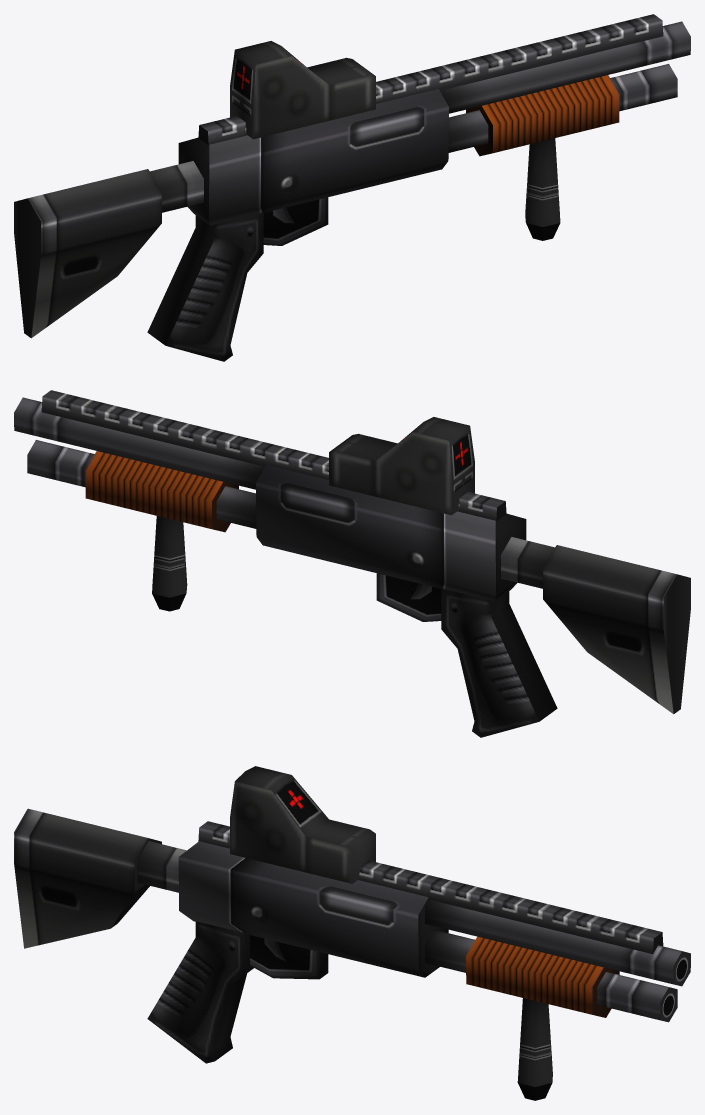
File: shotgun m3 lv3.FBX
3 views of the same model, one above another, from view 1: azimuth 30°, elevation 25°; view 2: azimuth 150°, elevation 25°; view 3: azimuth 330°, elevation 25° (orthographic).
Visible parts, largest first — view 1: Object081; view 2: Object081; view 3: Object081.
Part boxes in pixels (x1,y1,x2,y2): Object081: (14, 14, 690, 361); Object081: (14, 390, 690, 737); Object081: (14, 766, 690, 1100).
Size of the model in its own units: 75.57 by 32.34 by 6.17.
